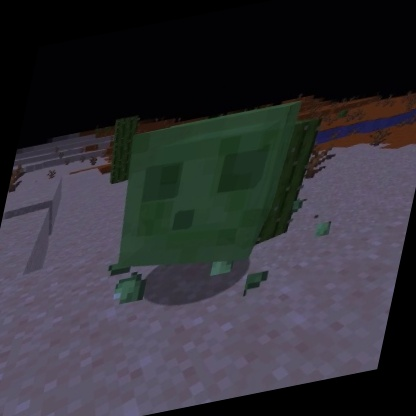slime: (97, 96, 307, 293)
